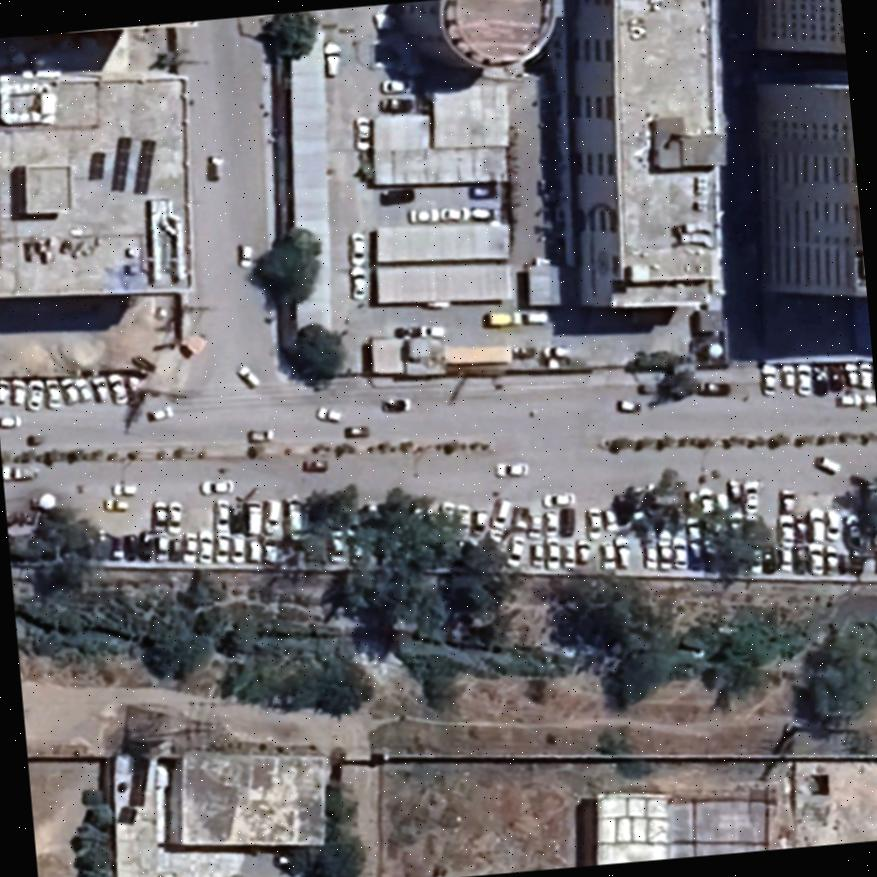Solarpanel: (129, 135, 160, 199), (109, 132, 134, 195), (83, 145, 106, 186)
